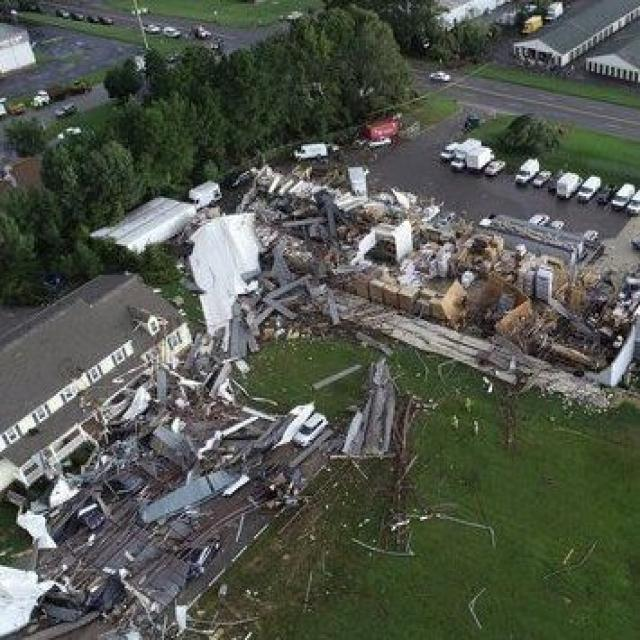collapsed_building: (227, 158, 626, 396), (36, 371, 328, 632)
